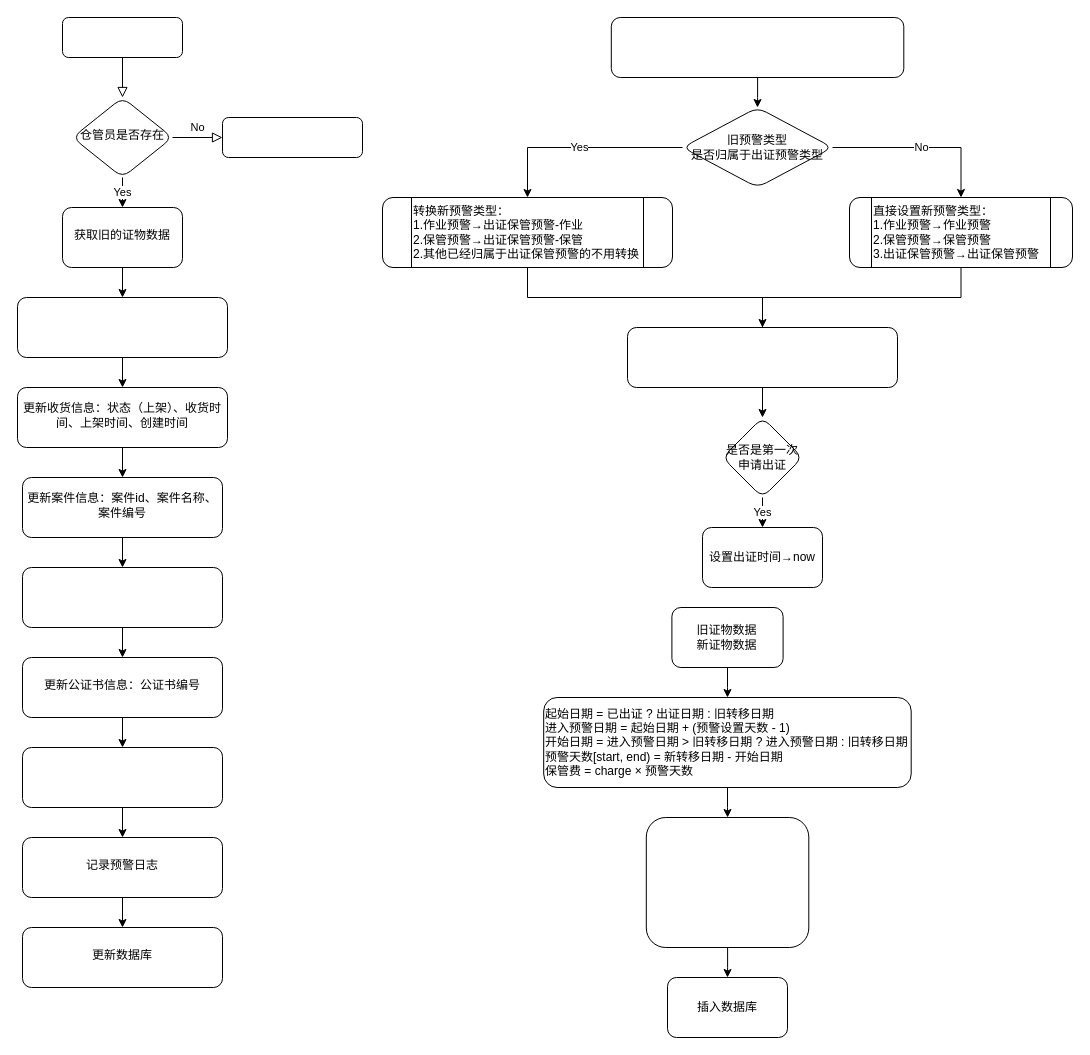
Image size: 1090x1055. Some labels were removed from this diagram. The centre of each missing label's shape, as x and y in pixels:
"报错：仓管员不存在！" belongs at [292,137].
"旧预警类型←旧的证物数据 新预警类型←新的区域类型/申请出证等场景直接设置" belongs at [757,47].
"更改储位" belongs at [122,37].
"更新仓储信息：仓库、区域、储位" belongs at [122,327].
"更新证物信息：编号类型、唯一码、证物大小、证物总数" belongs at [122,597].
"更新预警信息：预警类型、预警id、转移时间" belongs at [122,777].
"设置日志信息： 1.开始日期 2.预警类型→旧预警类型 3.预警id→旧预警id 4.操作日志→根据旧预警类型 5.证物id 6.预警天数 7.保管费" belongs at [727,882].
"设置预警id→根据新预警类型关联 设置转移时间→now" belongs at [762,357].
